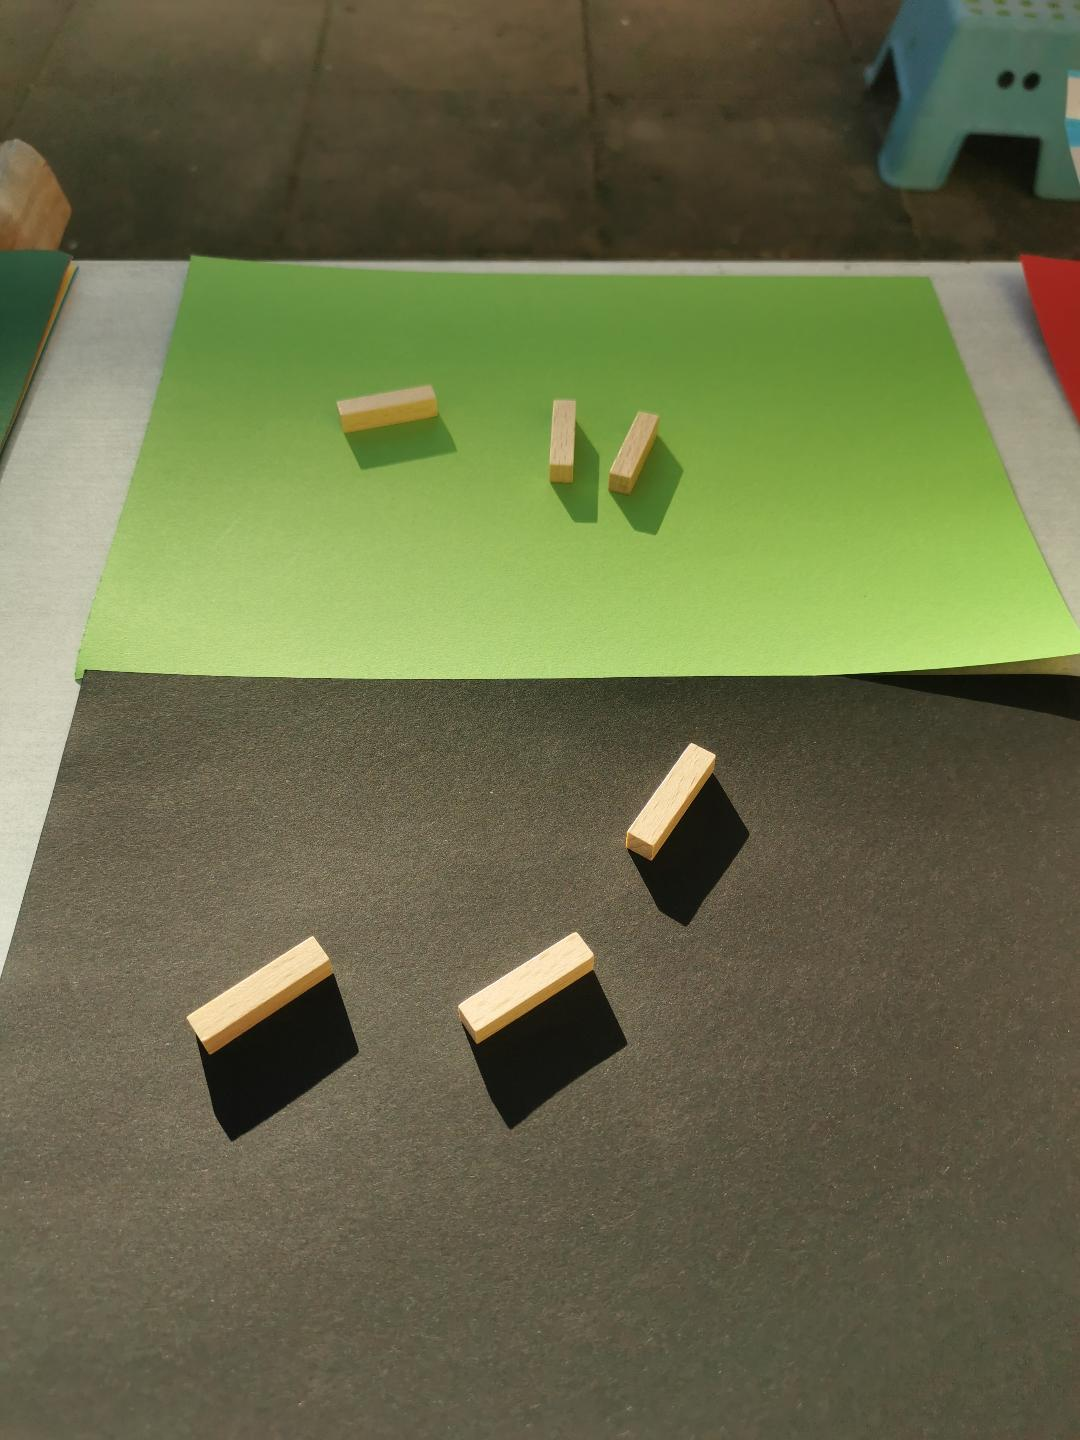jenga: (188, 937, 332, 1054), (458, 934, 593, 1043), (624, 745, 715, 861), (338, 386, 439, 433), (608, 410, 658, 495), (548, 399, 576, 484)
